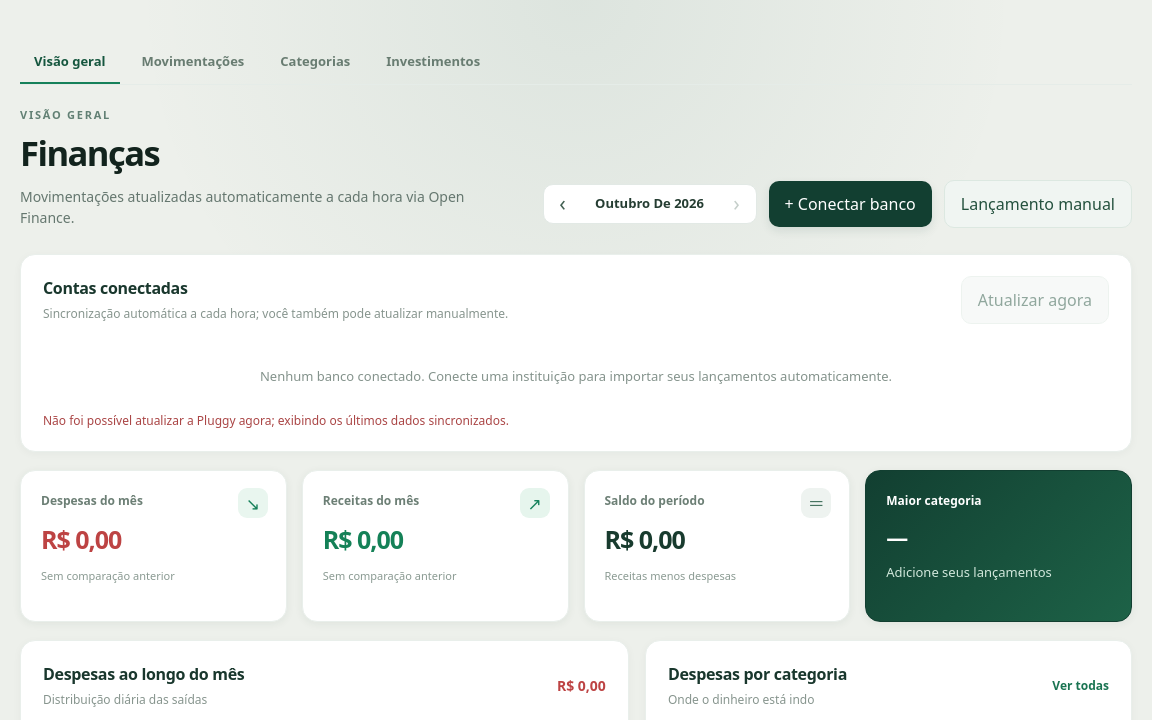
Test: clears the stale-data warning after a successful dashboard refresh
Check: the text "Não foi possível atualizar a Pluggy agora" is shown, box [43,412,509,429]
What coordinates should you click on to do the following:
click the button named "Mês anterior"
I would click on:
 (562, 204)
Its box is [548,189,578,219].
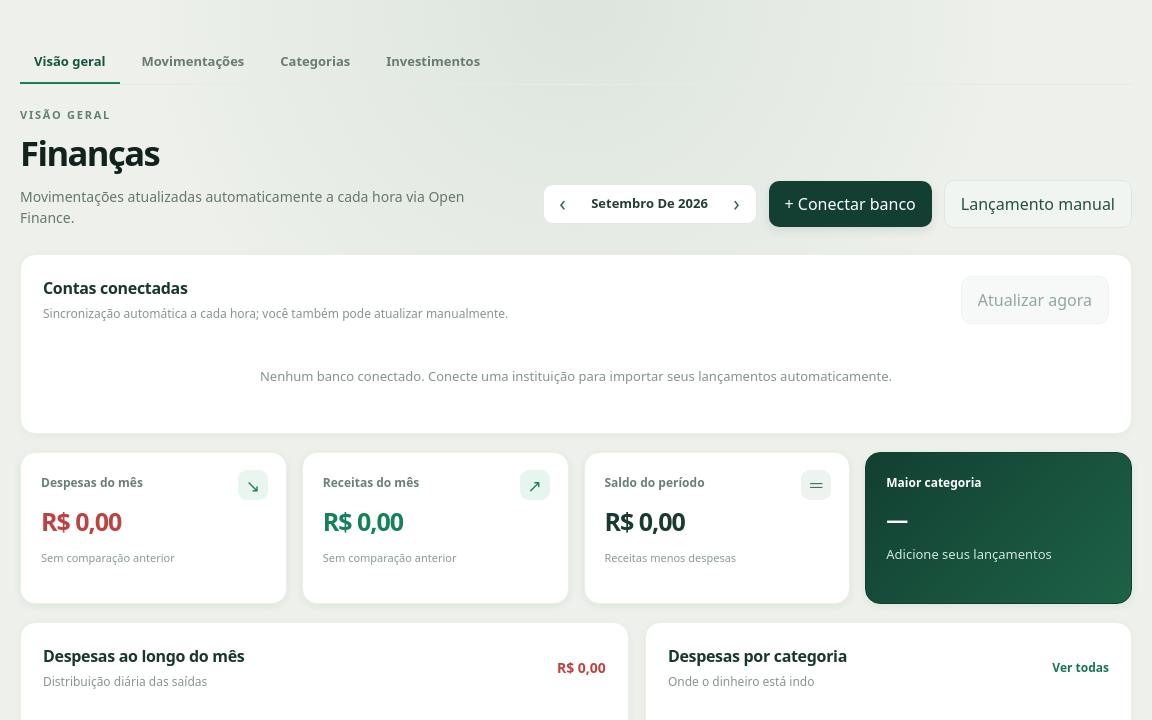
Check: the text "Não foi possível atualizar a Pluggy agora" is gone
